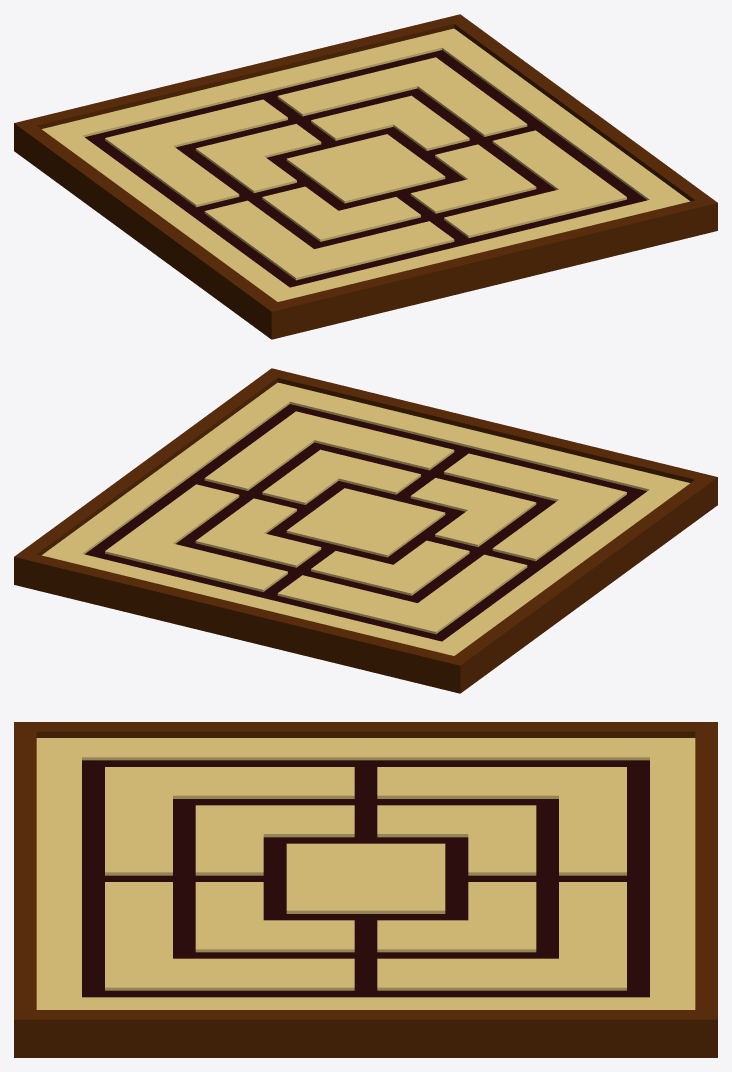
Rendered from Spielbrett.fbx.
The picture shows the model from 3 angles, top to bottom: view 1: azimuth 30°, elevation 25°; view 2: azimuth 150°, elevation 25°; view 3: azimuth 270°, elevation 25°; orthographic projection. The views are drawn at different scales.
Visible parts, largest first — view 1: Cube; view 2: Cube; view 3: Cube.
Part boxes in pixels (x1,y1,x2,y2): Cube: [14, 14, 717, 339]; Cube: [14, 368, 717, 693]; Cube: [14, 722, 717, 1057].
Size of the model in its own units: 2000 by 120 by 2000.
